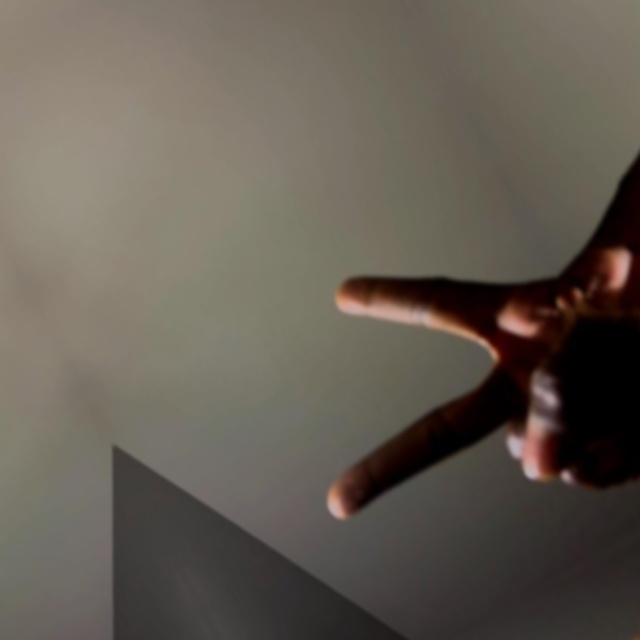Scissors: (503, 22, 640, 505)
